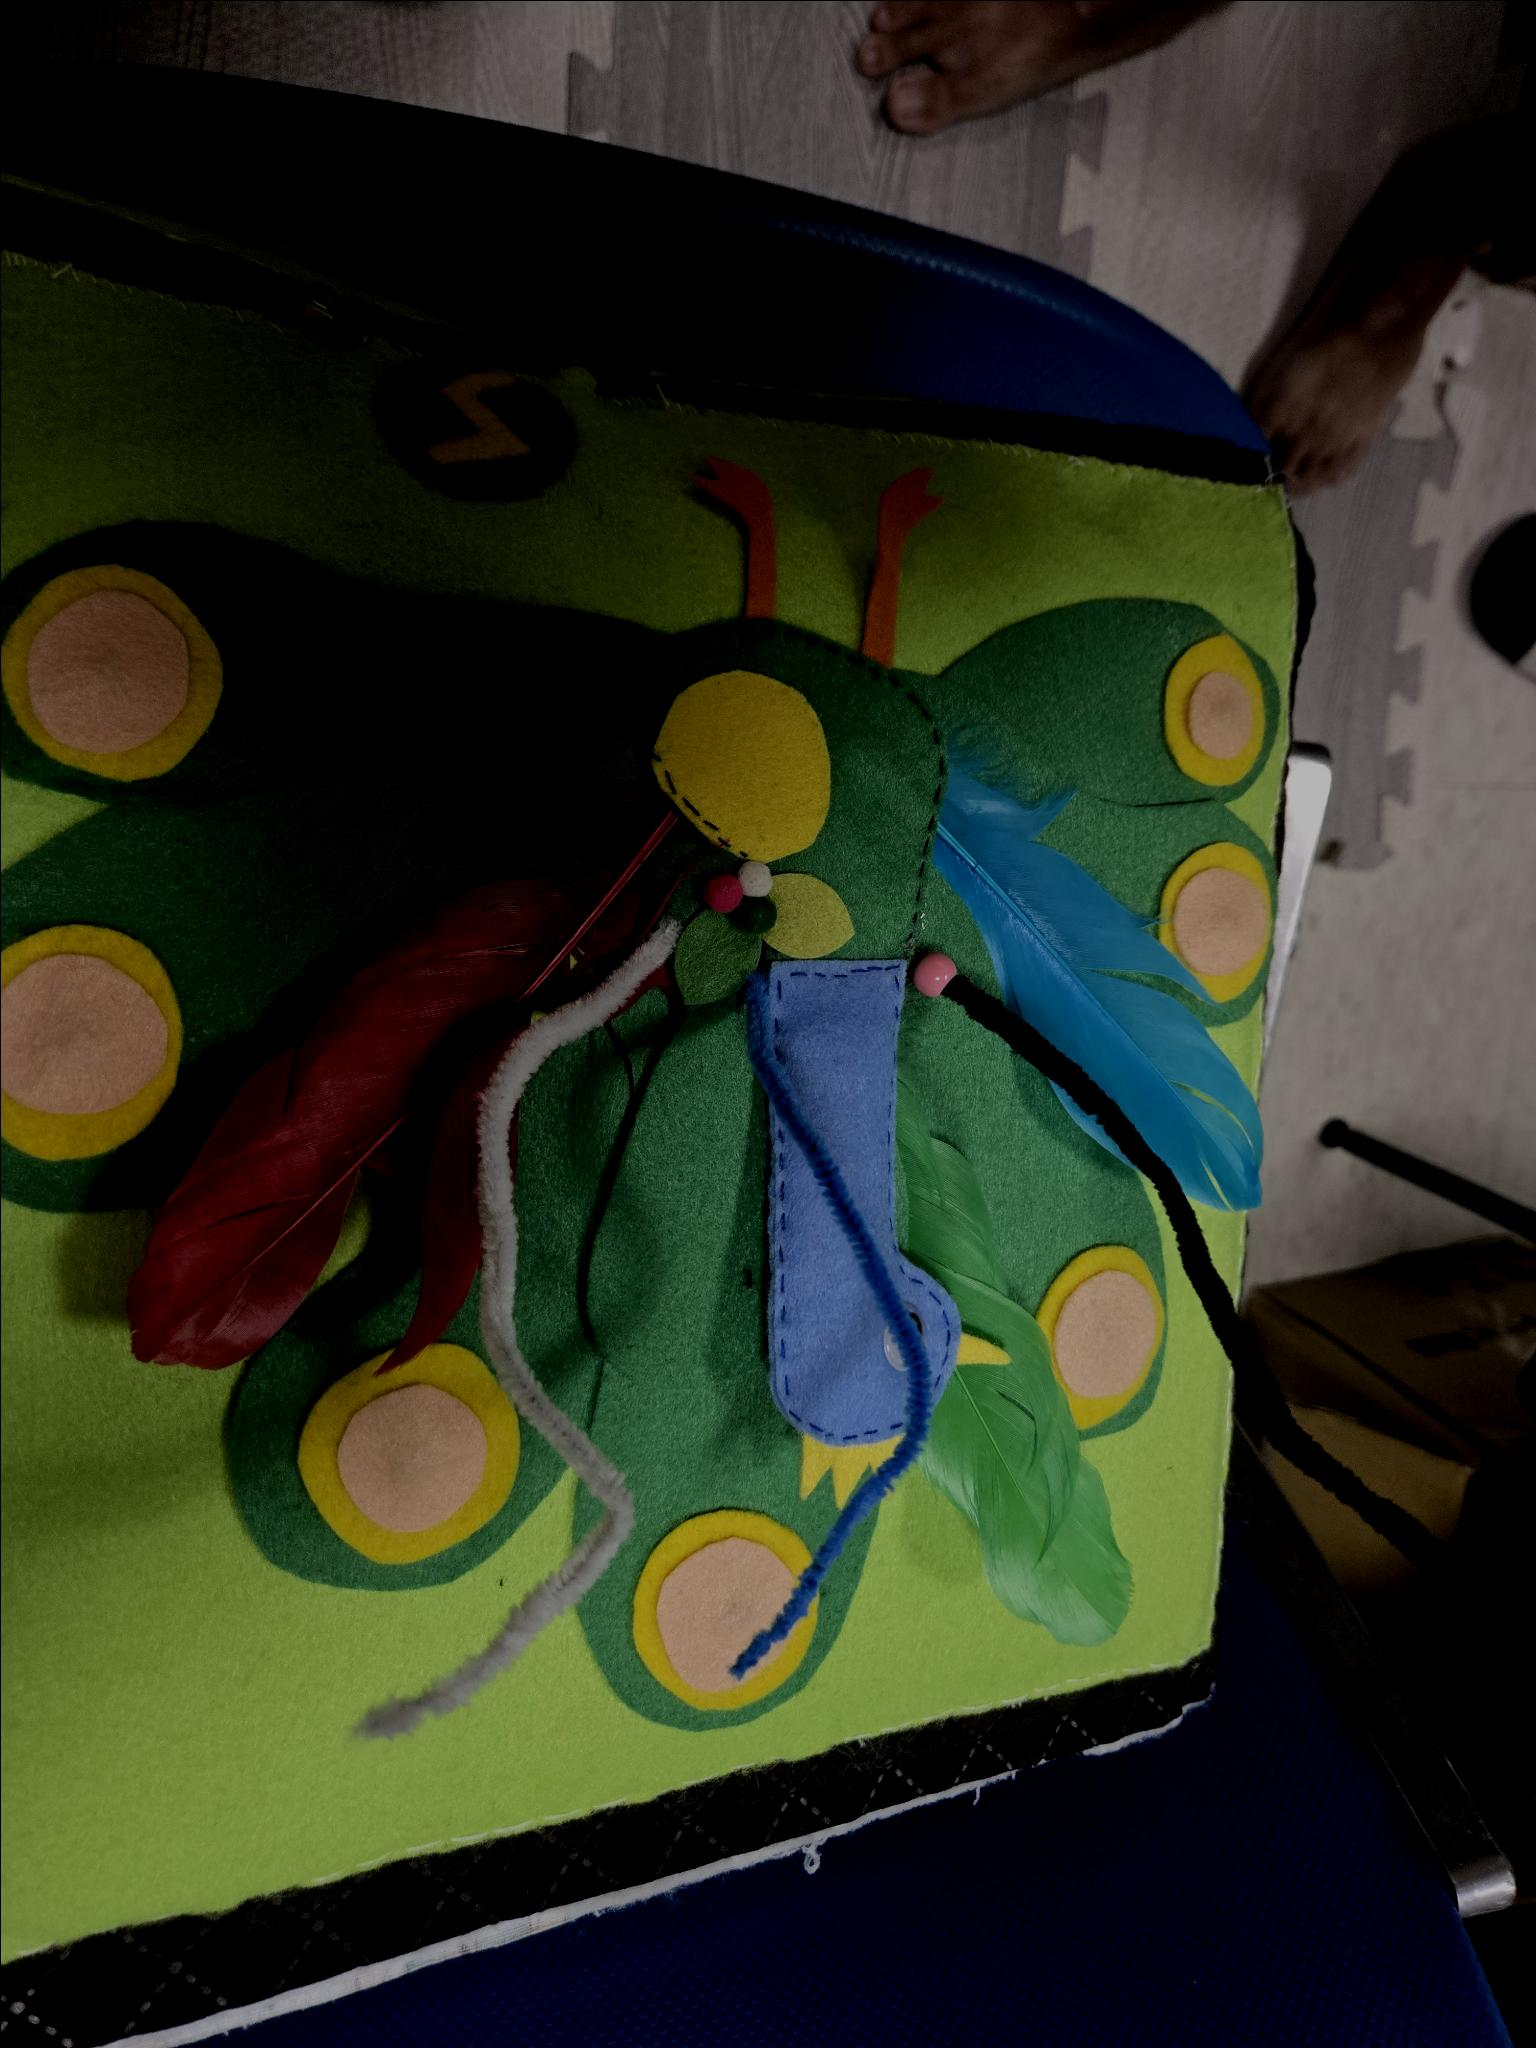bead: (904, 932, 973, 1013)
